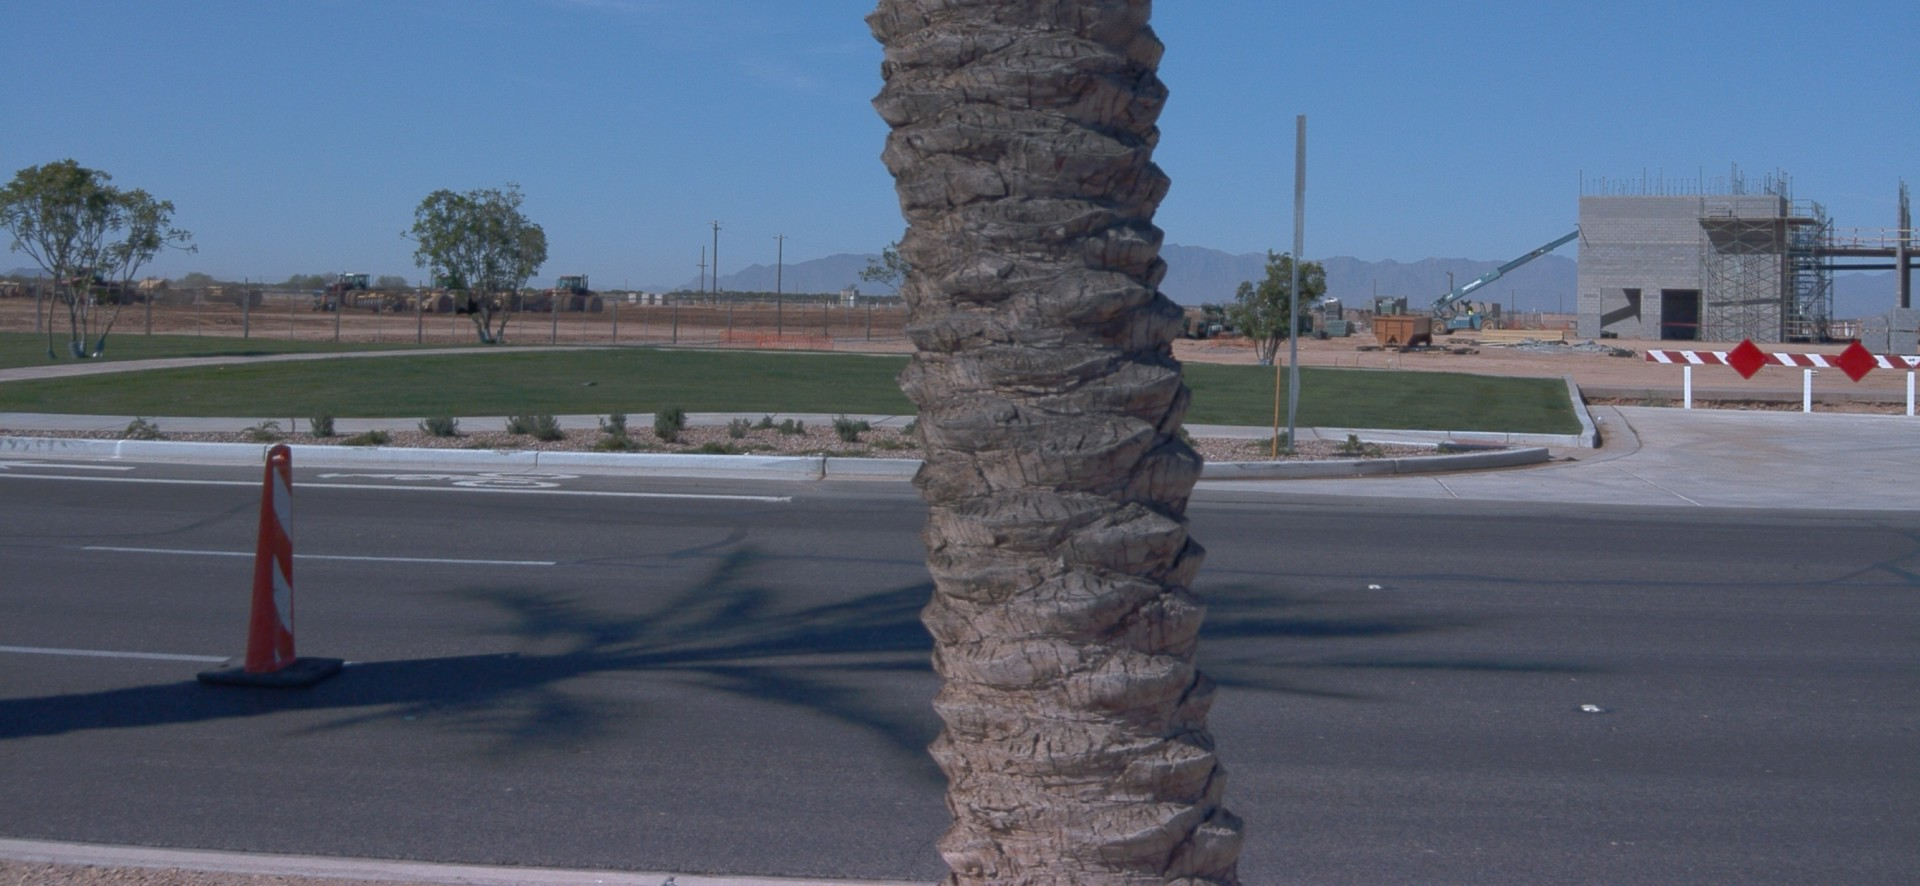TYPE_VEHICLE: (1425, 228, 1584, 343), (407, 273, 483, 319), (53, 266, 135, 305), (312, 272, 378, 316), (543, 275, 607, 317), (357, 283, 425, 315), (40, 267, 96, 304), (417, 293, 486, 314), (0, 283, 23, 298), (312, 291, 323, 301)
